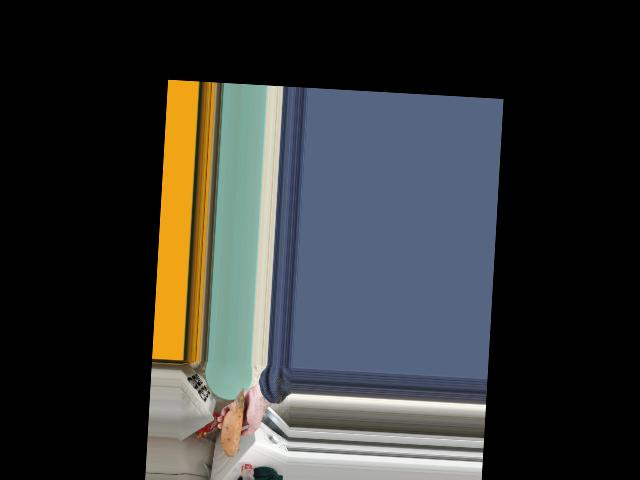sweet_potato: (217, 380, 241, 454)
